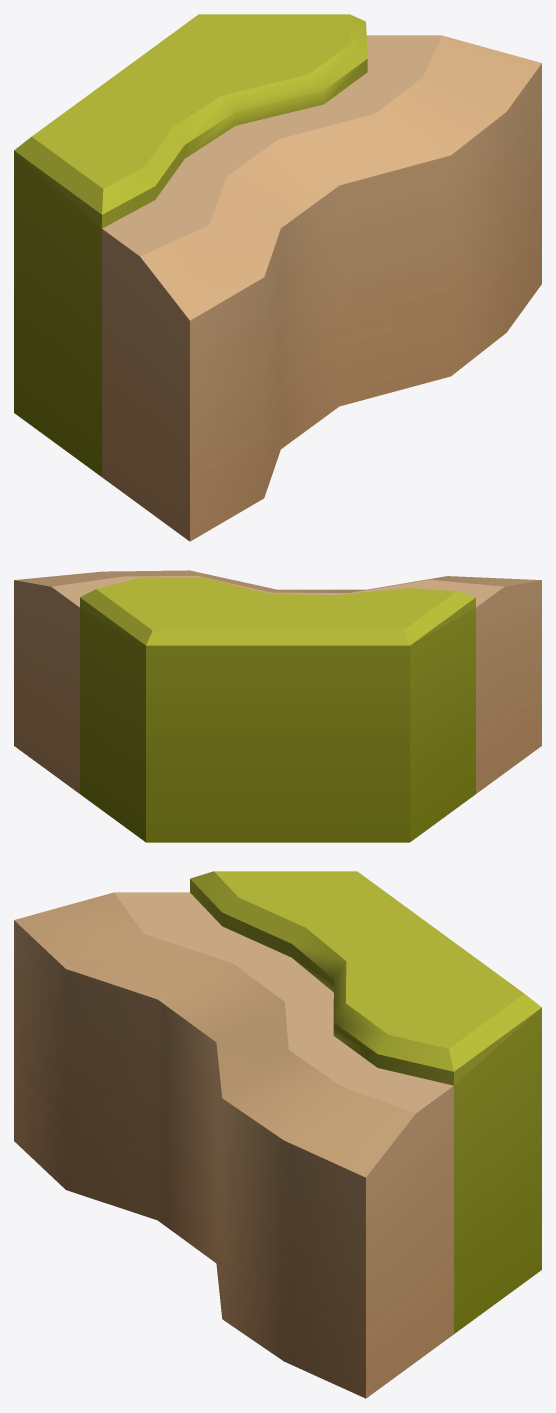
File: kaykit-medieval-hexagon-pack-hex-coast-c-waterless.glb
3 views of the same model, one above another, from view 1: azimuth 30°, elevation 25°; view 2: azimuth 150°, elevation 25°; view 3: azimuth 270°, elevation 25° (orthographic). The views are drawn at different scales.
Parts seen in each view (by area): view 1: hex_coast_C_waterless; view 2: hex_coast_C_waterless; view 3: hex_coast_C_waterless.
Part boxes in pixels (x1,y1,x2,y2): hex_coast_C_waterless: (14, 14, 541, 541); hex_coast_C_waterless: (14, 570, 541, 842); hex_coast_C_waterless: (14, 871, 541, 1398).
Size of the model in its own units: 2 by 1 by 1.73.
Materials: 1 (1 with a texture image).
